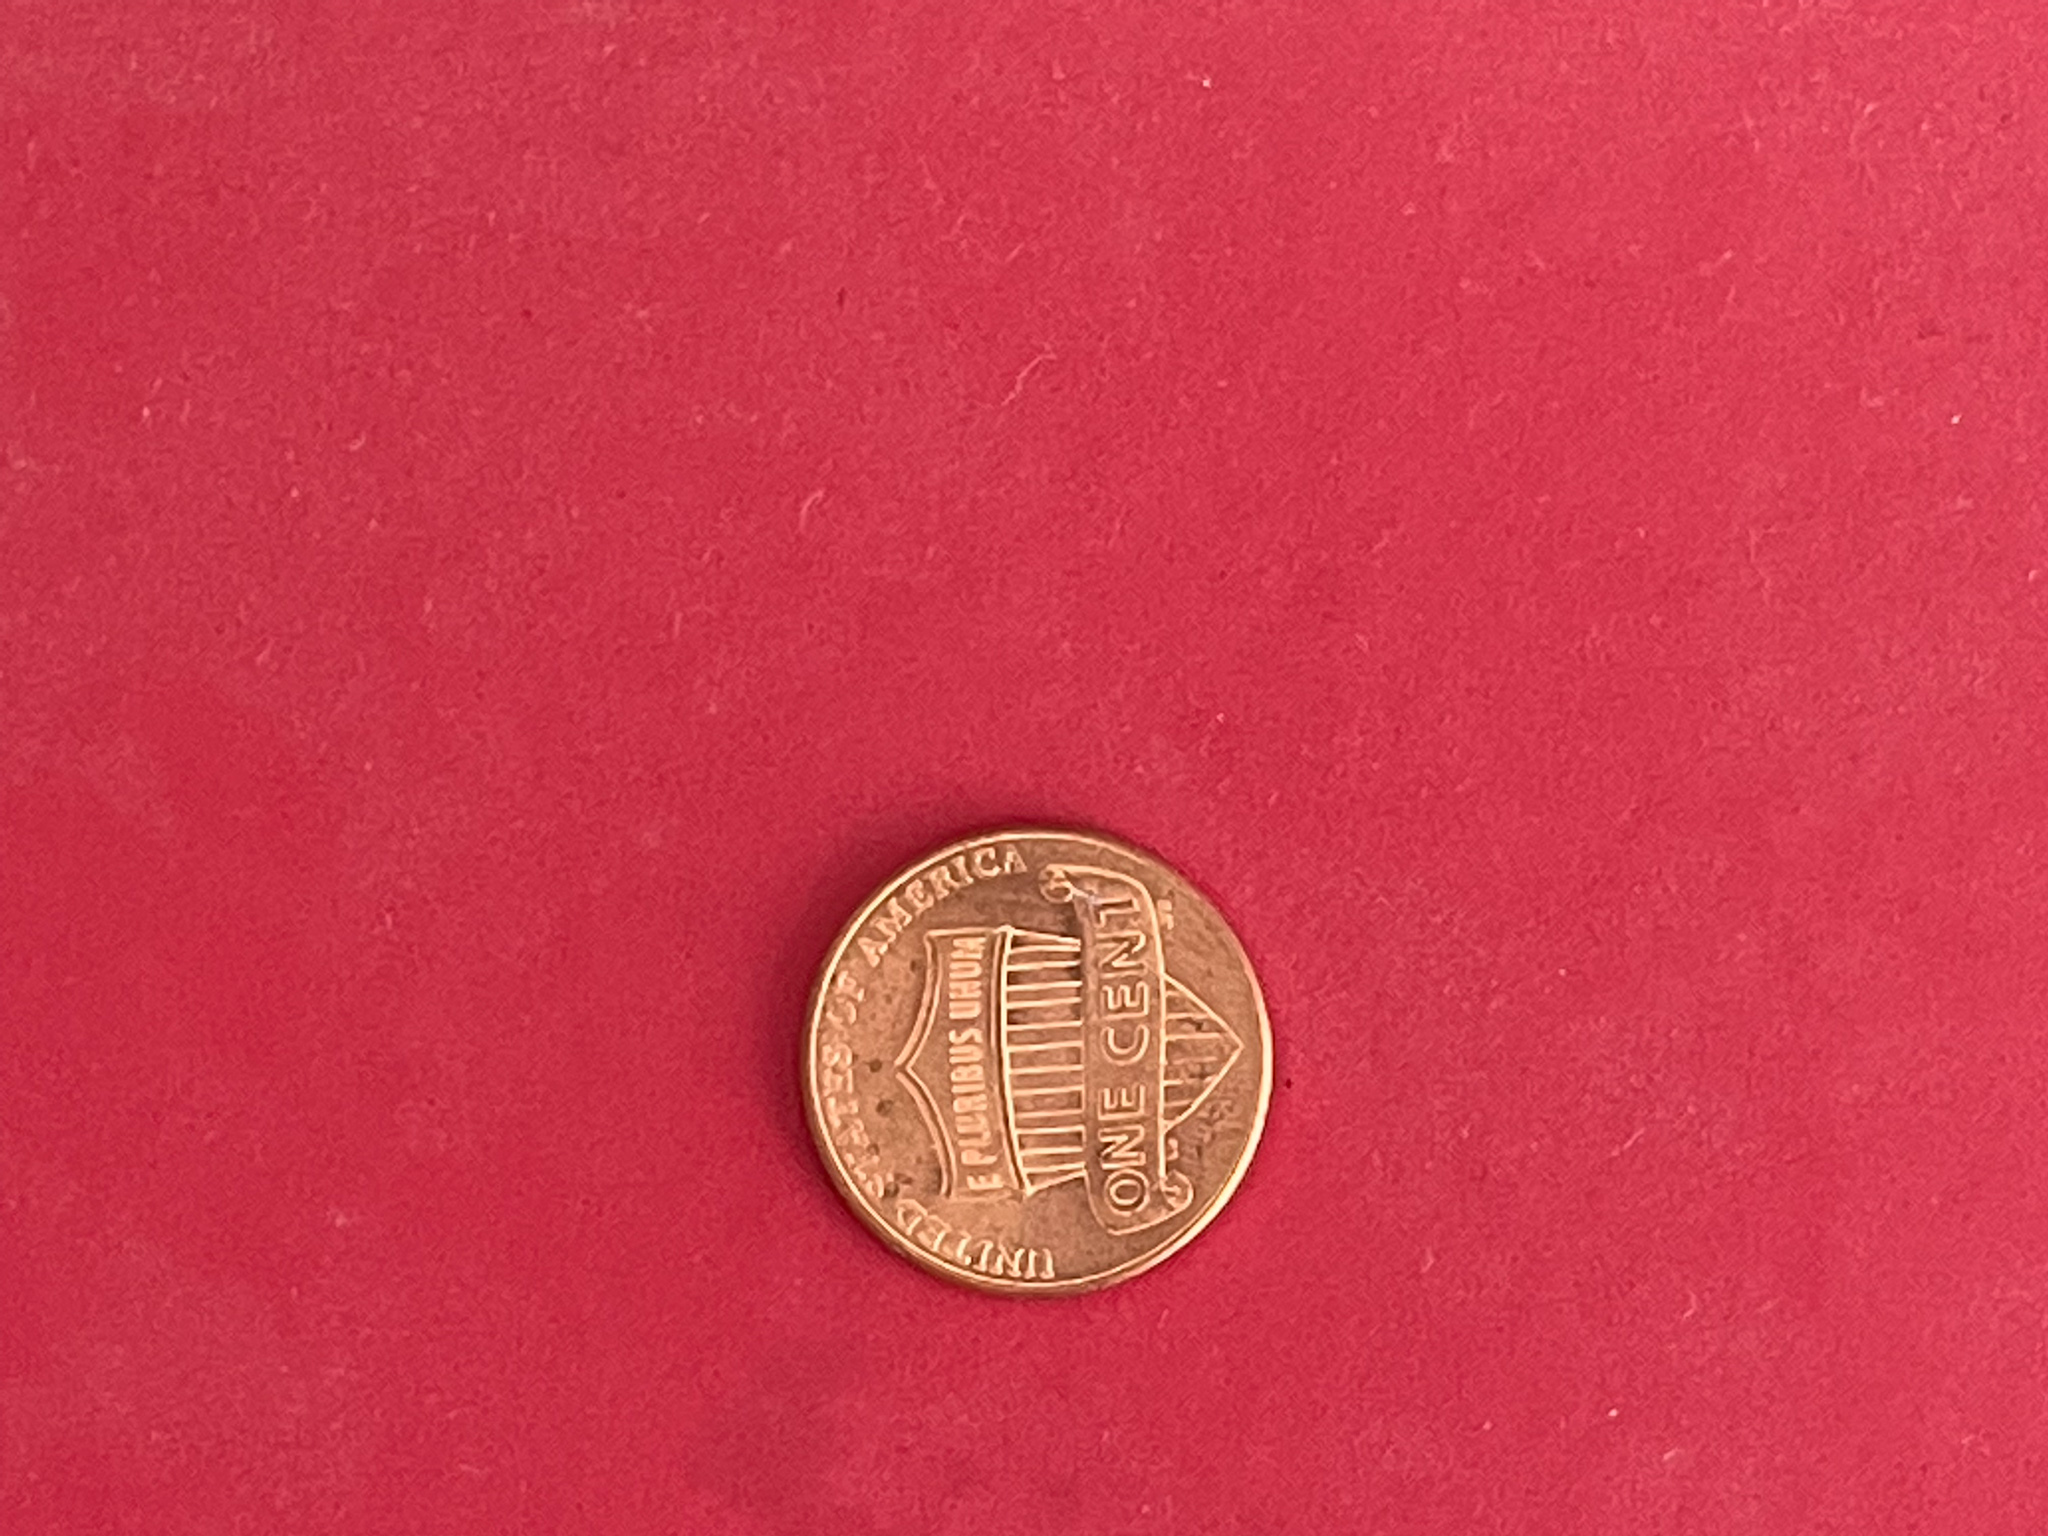penny: (789, 821, 1280, 1300)
